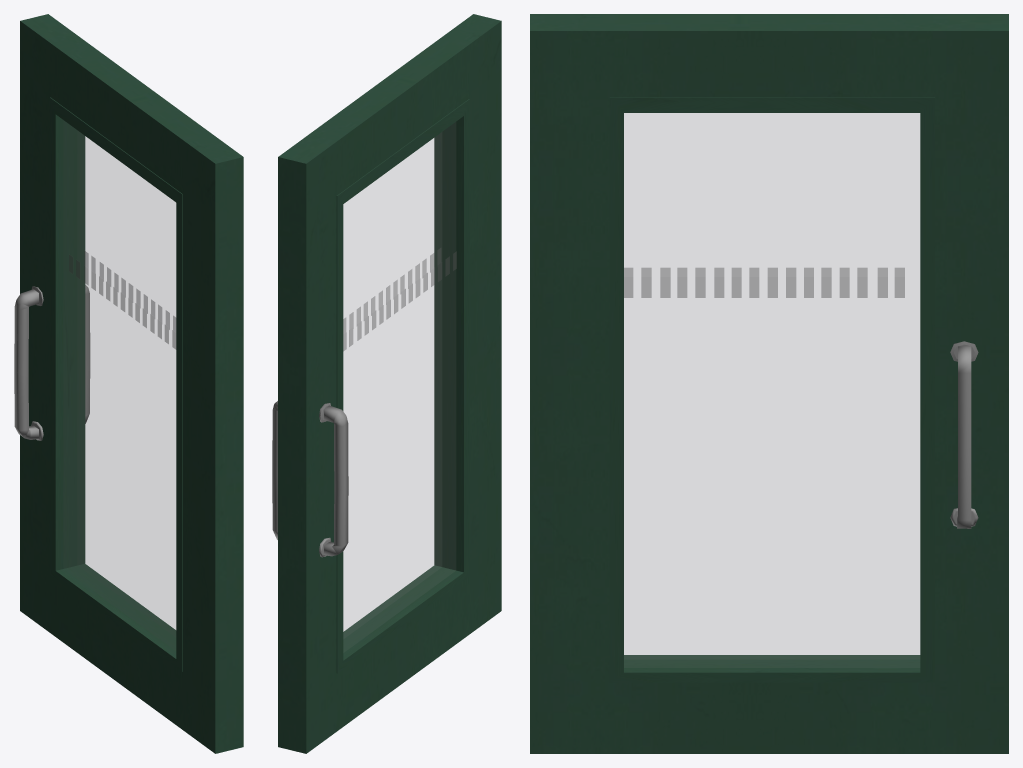
The model's file is AE-door2.fbx.
3 views of the same model, side by side, from view 1: azimuth 30°, elevation 25°; view 2: azimuth 150°, elevation 25°; view 3: azimuth 270°, elevation 25° (orthographic). The views are drawn at different scales.
Visible parts, largest first — view 1: pCube4, pCube3, pasted__pCube4, pCube43, pCube41, pCube40, pCube42; view 2: pCube4, pCube3, pasted__pCube4, pCube43, pCube41, pCube40, pCube42; view 3: pCube4, pCube3, pasted__pCube4, pCube40, pCube42, pCube41.
Boxes of the visible parts, x1,y1,x2,y2 form: pCube4: [20, 14, 243, 753]; pCube3: [77, 131, 175, 637]; pasted__pCube4: [49, 97, 182, 671]; pCube43: [14, 286, 43, 440]; pCube41: [69, 254, 175, 349]; pCube40: [84, 251, 175, 331]; pCube42: [85, 285, 90, 423]; pCube4: [278, 14, 501, 753]; pCube3: [343, 132, 442, 638]; pasted__pCube4: [336, 99, 469, 673]; pCube43: [319, 403, 348, 557]; pCube41: [343, 251, 456, 350]; pCube40: [343, 248, 441, 333]; pCube42: [272, 401, 277, 539]; pCube4: [530, 14, 1008, 753]; pCube3: [624, 113, 919, 659]; pasted__pCube4: [609, 97, 934, 682]; pCube40: [624, 277, 904, 297]; pCube42: [950, 341, 978, 528]; pCube41: [624, 268, 904, 276].
Size of the model in its own units: 1.25 by 10 by 6.
Materials: 4 (1 with a texture image).
